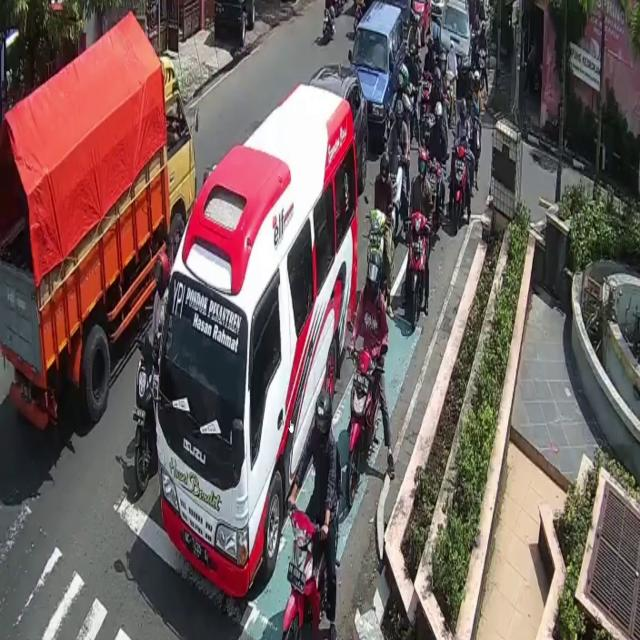bus: (285, 501, 332, 640), (349, 347, 380, 502), (134, 344, 159, 492), (363, 209, 390, 312), (409, 216, 427, 329), (452, 143, 468, 227)
car: (157, 82, 358, 594)
motorcycle: (351, 0, 407, 144), (312, 62, 370, 184), (438, 0, 474, 94)
truck: (0, 8, 197, 431)
